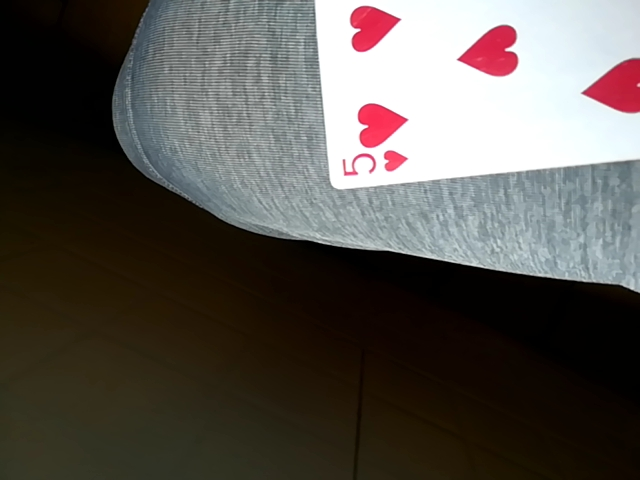hx 5: (307, 0, 639, 192)
